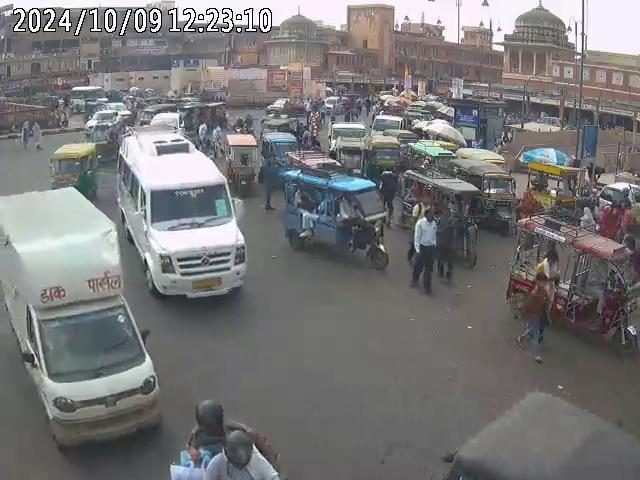auto: (505, 210, 638, 358), (281, 162, 389, 270), (401, 168, 483, 262), (48, 140, 100, 200), (220, 132, 260, 197), (83, 103, 132, 147), (260, 131, 298, 167)
bus: (113, 125, 248, 304)
helmet: (220, 432, 255, 464), (192, 402, 228, 432)
lorry: (0, 185, 163, 470)
person: (407, 207, 440, 294), (20, 119, 42, 148)
scooty-rider: (165, 397, 287, 479)
